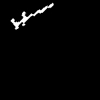double_crochet: (11, 3, 52, 28)
